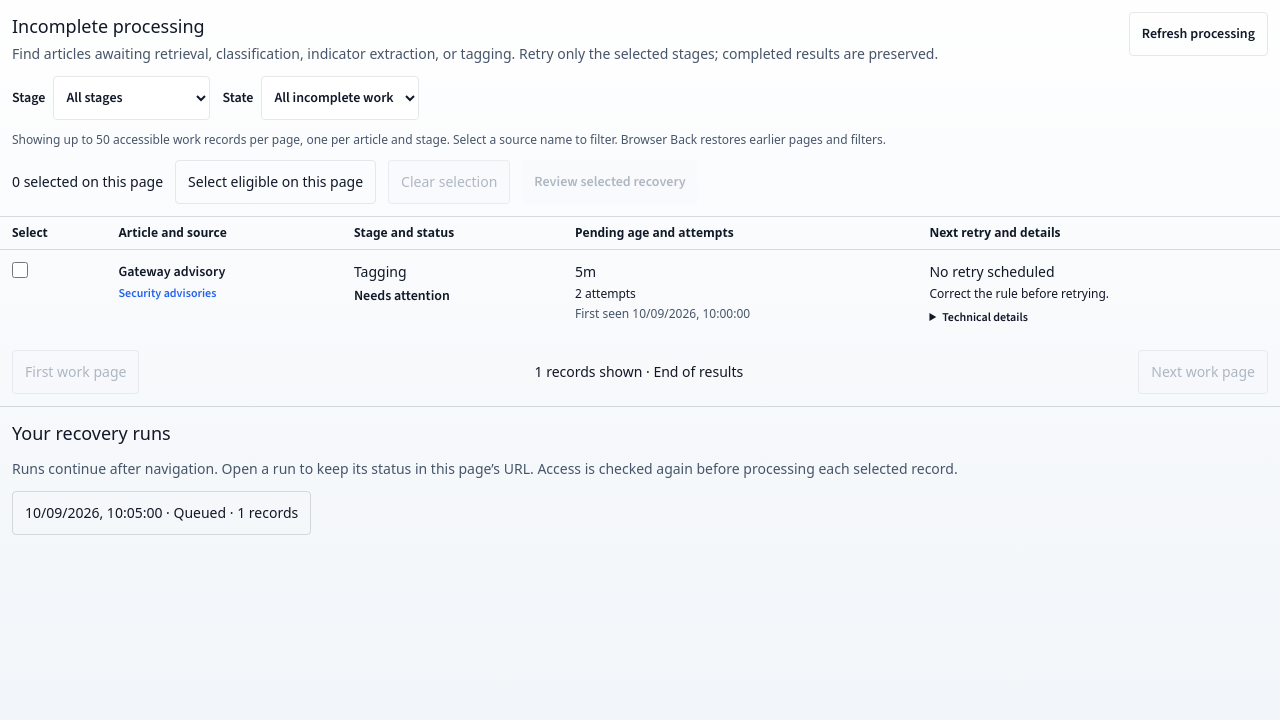
processing work with actual router, session cache and mutations › reuses its idempotency key after ambiguous acceptance and restores the accepted run
Click the checkbox named "Select Tagging for Gateway advisory" at (20, 270), box [12, 262, 28, 278]
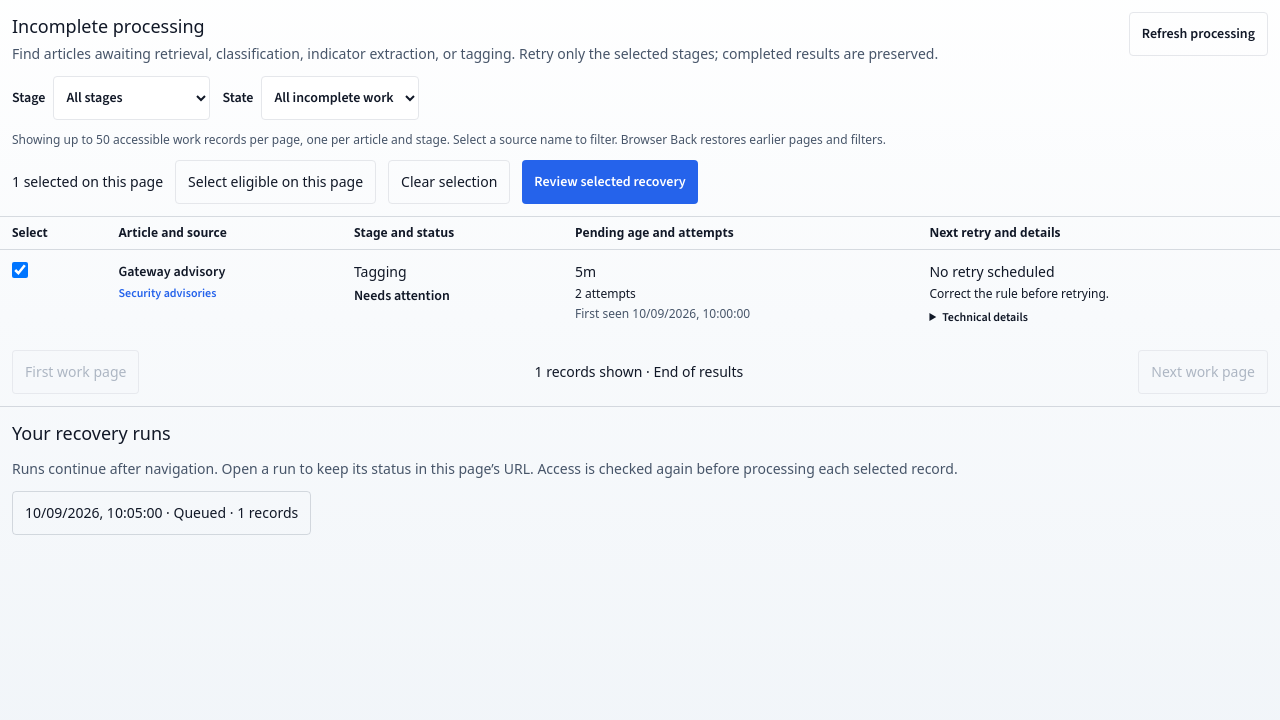
Click the button "Review selected recovery" at (610, 182), box [522, 160, 698, 204]
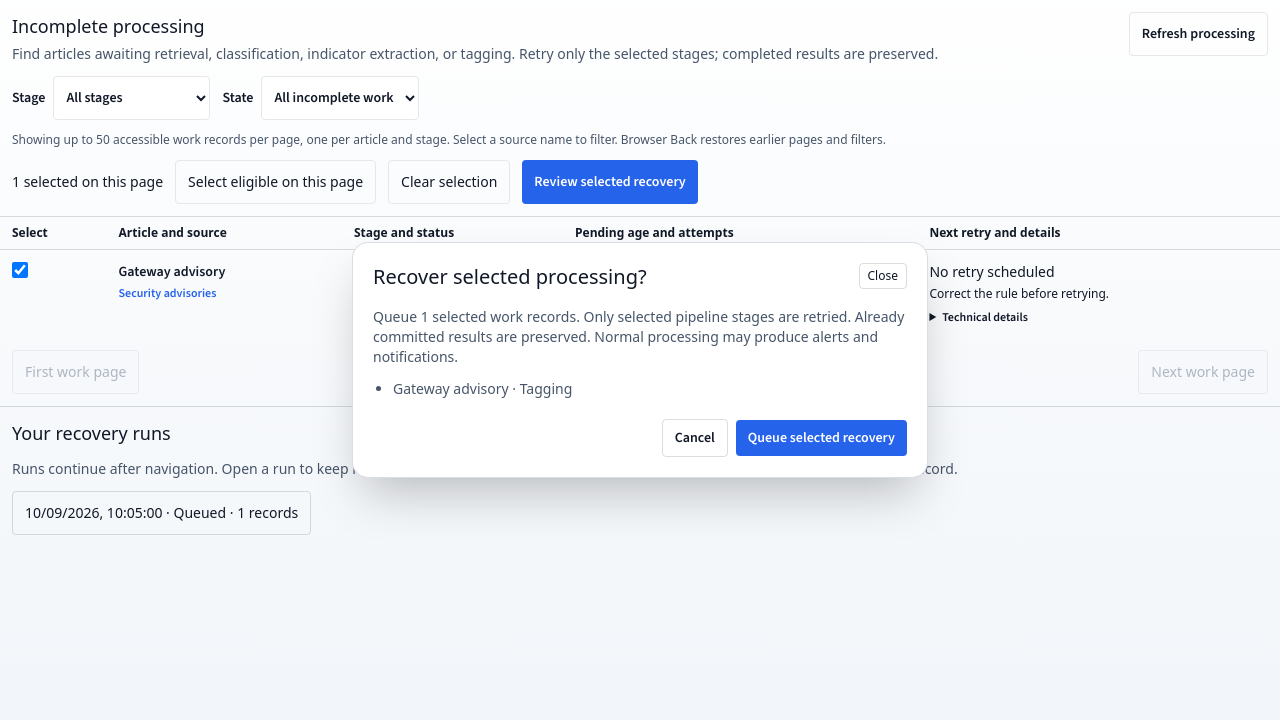
expect the button "Queue selected recovery" is shown: met
Click the button "Queue selected recovery" at (821, 438), box [736, 420, 907, 456]
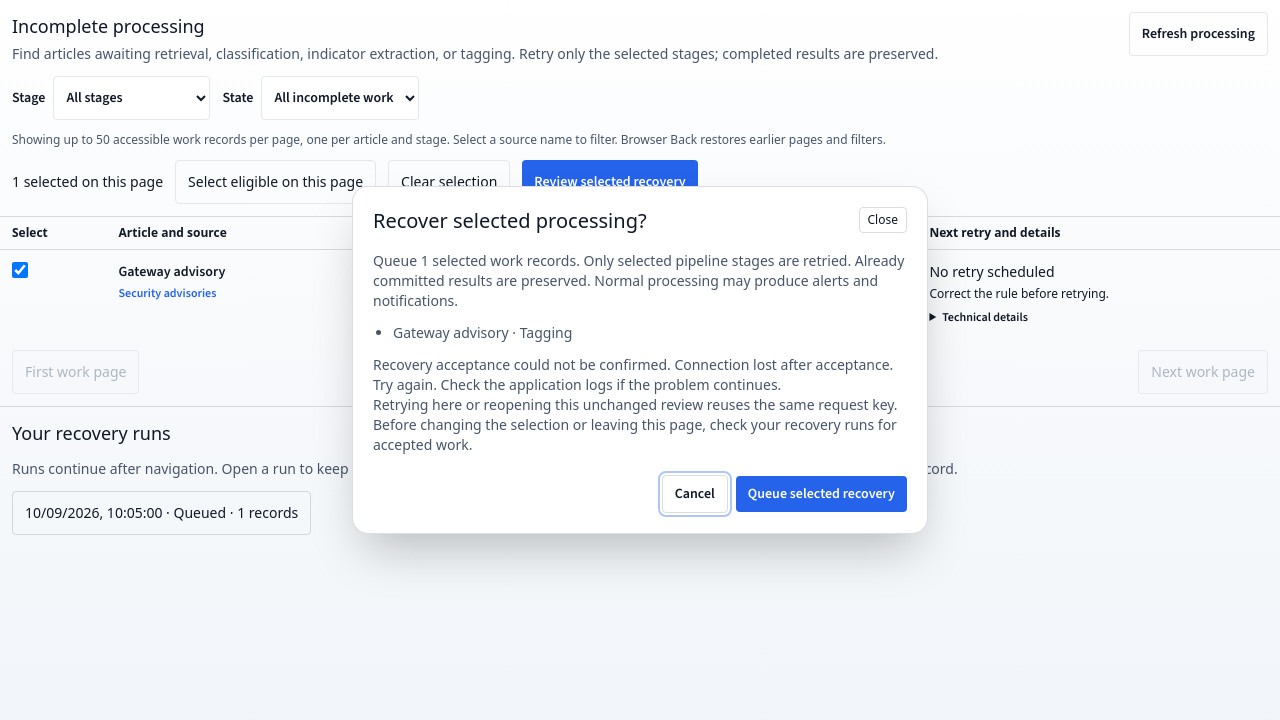
expect the button "Cancel" is shown: met
expect the text "reuses the same request key" is shown: met, box [373, 395, 898, 454]
Click the button "Cancel" at (695, 494), box [662, 475, 728, 513]
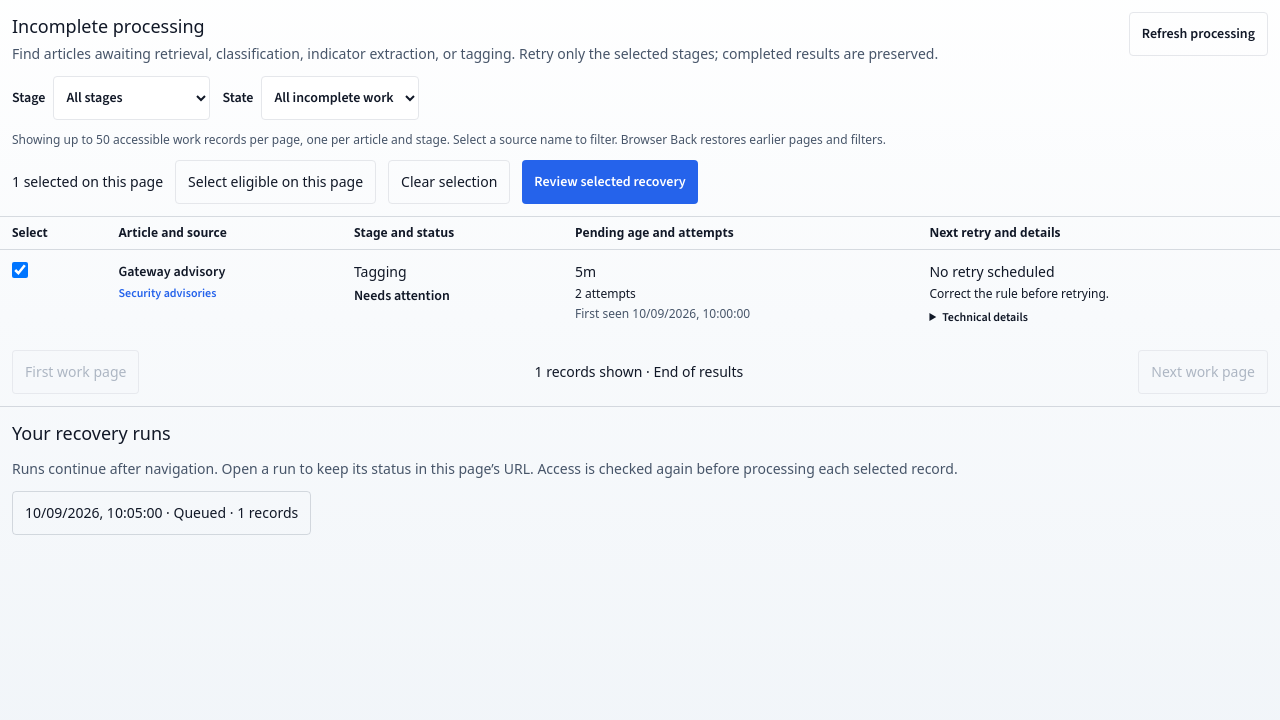
Click the button "Review selected recovery" at (610, 182), box [522, 160, 698, 204]
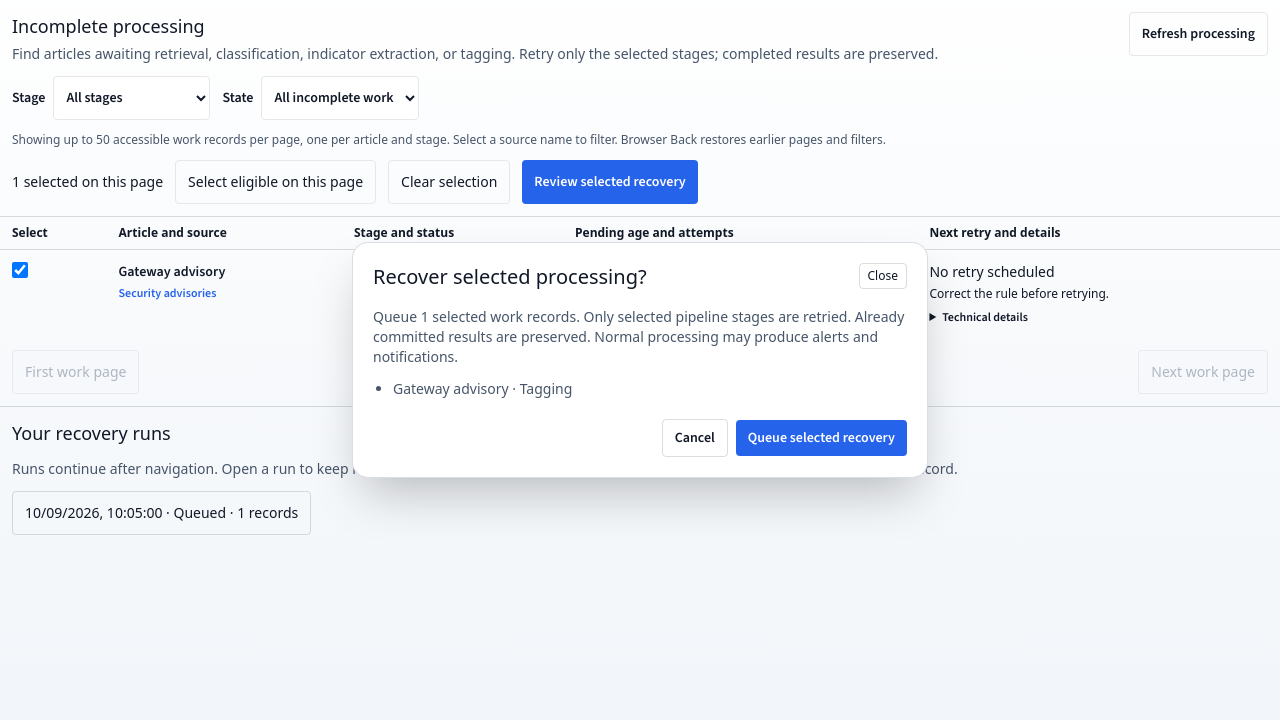
expect the button "Queue selected recovery" is shown: met
Click the button "Queue selected recovery" at (821, 438), box [736, 420, 907, 456]
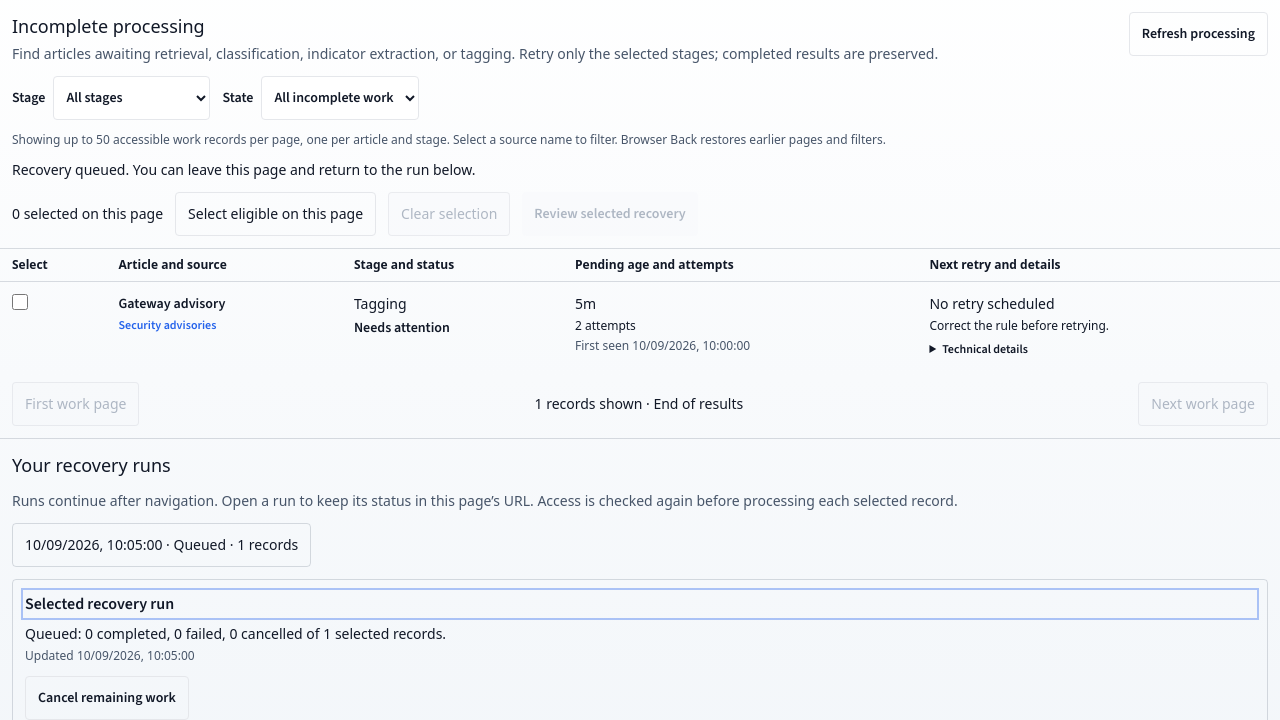
expect the text "Queued: 0 completed" is shown: met, box [25, 624, 446, 643]
